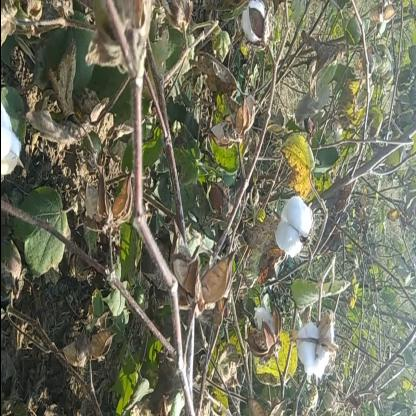cotton_ready: (276, 307, 338, 383), (260, 174, 306, 274)
